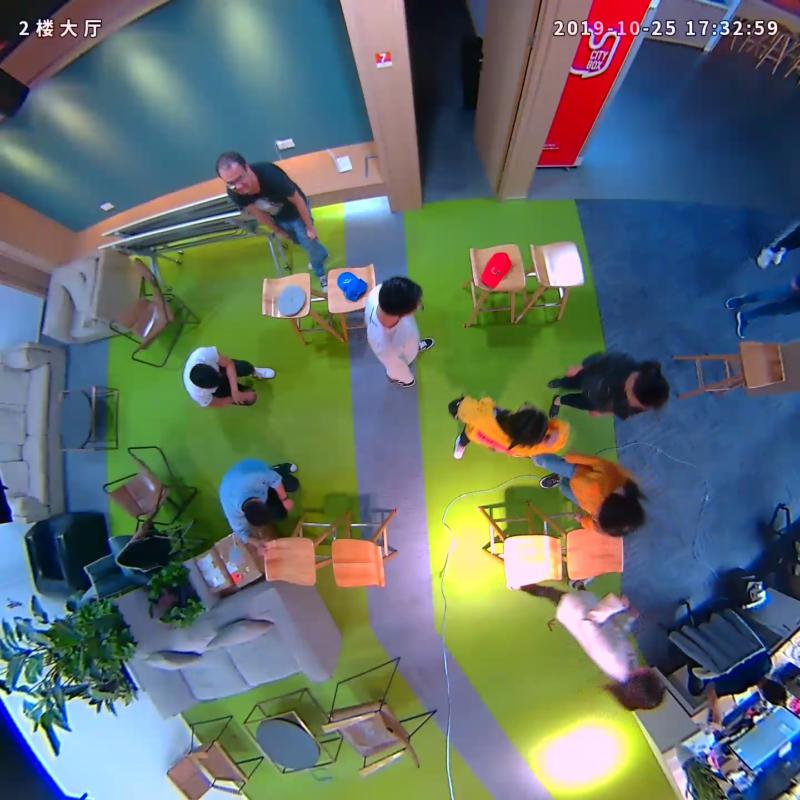head: (617, 358, 673, 421), (591, 486, 652, 541), (616, 657, 667, 722), (372, 272, 427, 328), (504, 399, 558, 452), (210, 147, 257, 198), (184, 358, 223, 396), (237, 493, 275, 531)
